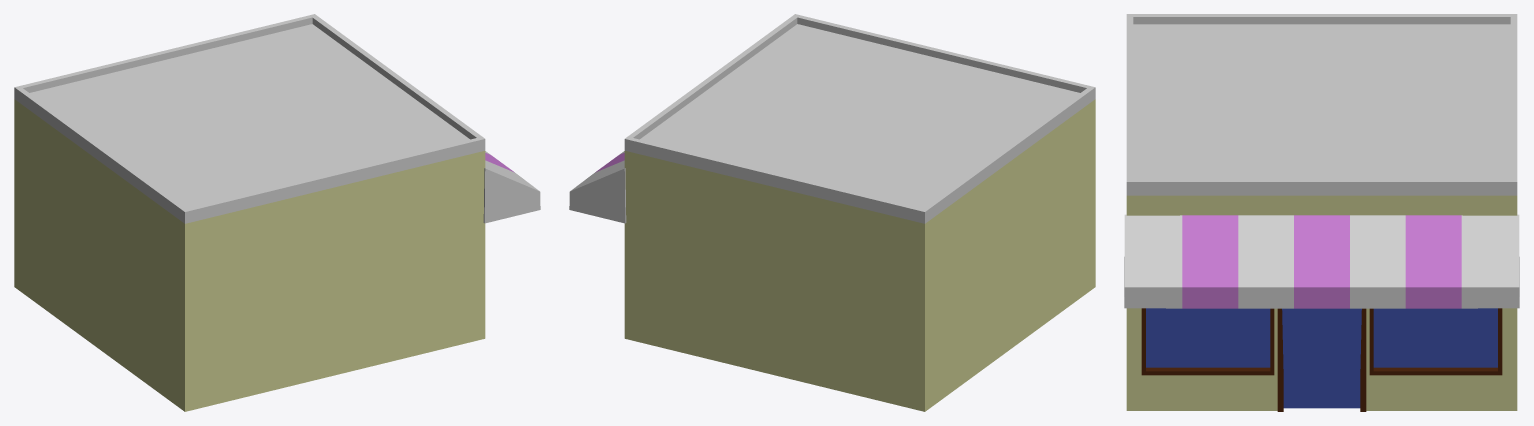
Rendered from Fillcrtshsp2.fbx.
The picture shows the model from 3 angles, left to right: view 1: azimuth 30°, elevation 25°; view 2: azimuth 150°, elevation 25°; view 3: azimuth 270°, elevation 25°; orthographic projection. The views are drawn at different scales.
Parts seen in each view (by area): view 1: Cube.042, Cube.043, Cube.039; view 2: Cube.042, Cube.043, Cube.039; view 3: Cube.043, Cube.042, Cube.039, Cube.040.
Part boxes in pixels (box(x1,y1,x2,y2)): Cube.042: box(14, 99, 485, 411); Cube.043: box(14, 14, 485, 223); Cube.039: box(483, 151, 540, 223); Cube.042: box(624, 99, 1095, 411); Cube.043: box(624, 14, 1095, 223); Cube.039: box(569, 151, 626, 223); Cube.043: box(1126, 14, 1517, 195); Cube.042: box(1126, 195, 1517, 410); Cube.039: box(1124, 214, 1519, 308); Cube.040: box(1141, 308, 1502, 411).
Size of the model in its own units: 4.62 by 2.48 by 3.89.
